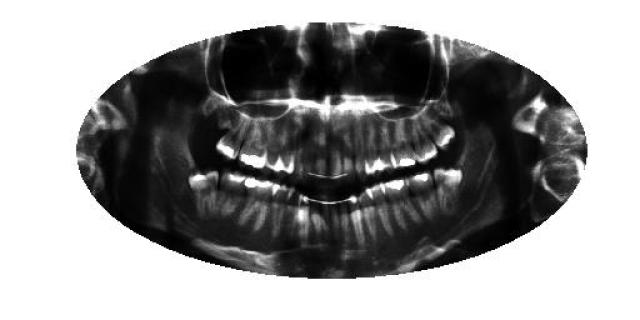Fillings: (238, 176, 276, 234), (384, 178, 424, 232), (215, 116, 250, 160), (406, 172, 439, 218), (238, 119, 268, 169), (392, 116, 417, 168)
